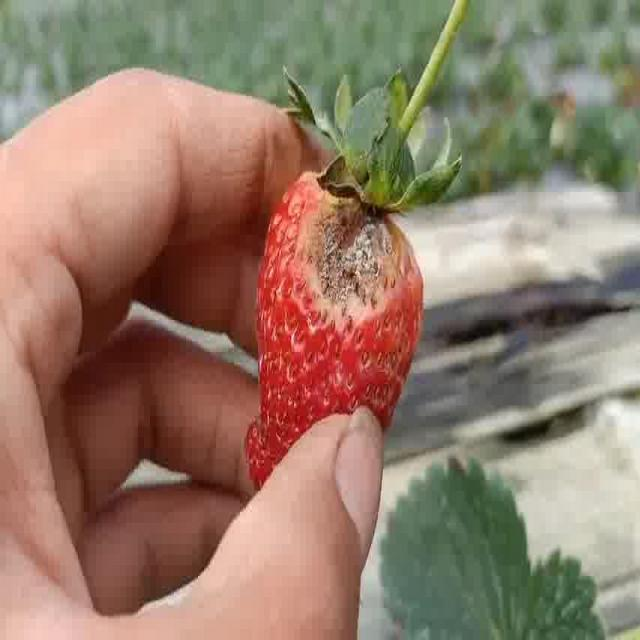Mancha negra Antracnosis: (248, 145, 427, 475)
